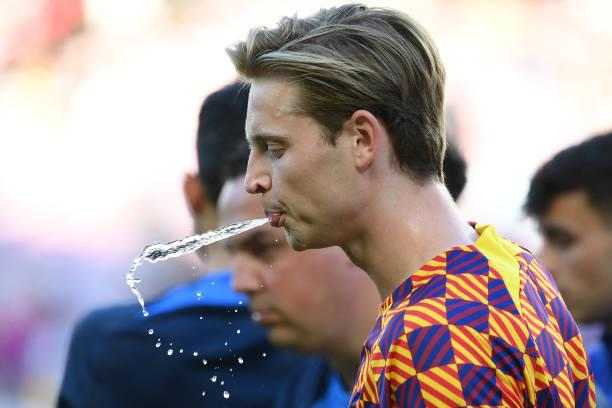Spitting: (157, 0, 468, 302)
